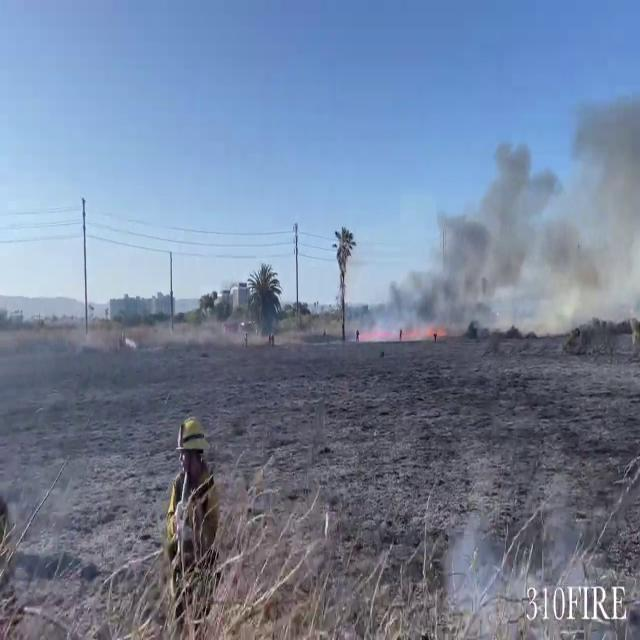Smoke: (366, 90, 640, 344)
